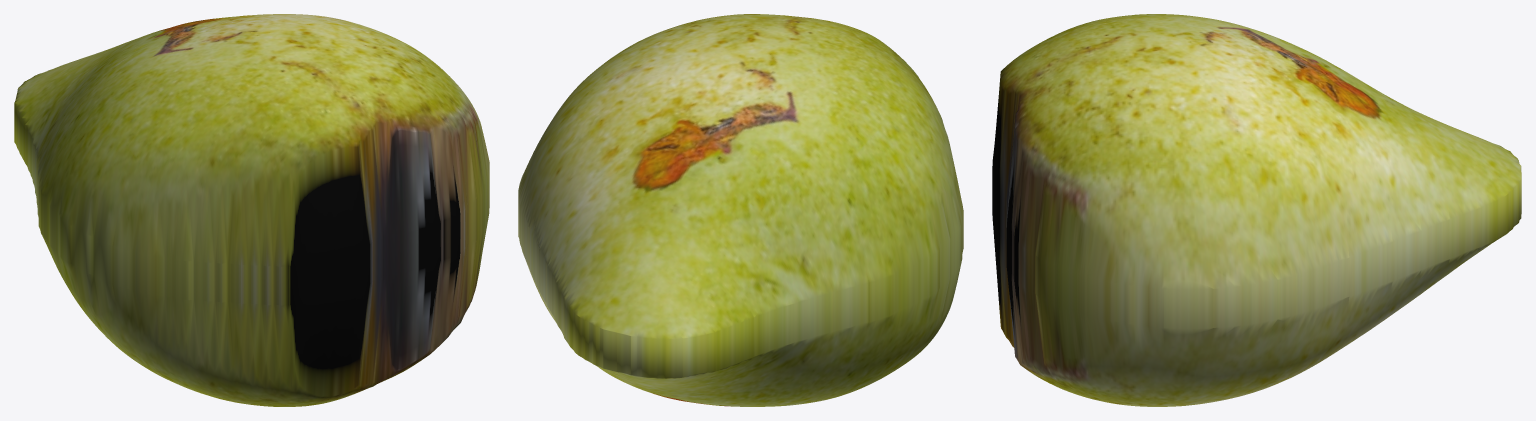
Rendered from green pear_3_2.obj.
The picture shows the model from 3 angles, left to right: view 1: azimuth 30°, elevation 25°; view 2: azimuth 150°, elevation 25°; view 3: azimuth 270°, elevation 25°; orthographic projection.
Parts seen in each view (by area): view 1: Grid; view 2: Grid; view 3: Grid.
Boxes of the visible parts, x1,y1,x2,y2 form: Grid: (14, 14, 489, 406); Grid: (518, 14, 963, 406); Grid: (992, 14, 1521, 406).
Size of the model in its own units: 1.5 by 1.2 by 1.73.
Materials: 1 (1 with a texture image).
